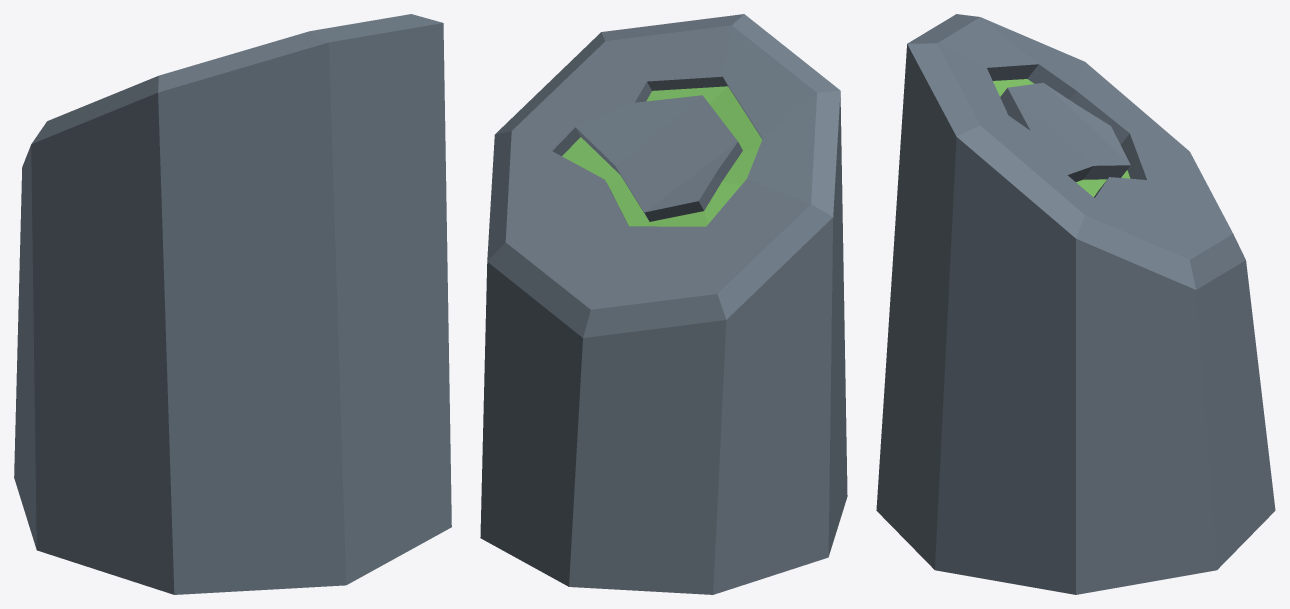
The model's file is RocherSymbole.fbx.
3 renders of one model, left to right at view 1: azimuth 30°, elevation 25°; view 2: azimuth 150°, elevation 25°; view 3: azimuth 270°, elevation 25°, orthographic. The views are drawn at different scales.
Parts seen in each view (by area): view 1: Cylinder.003; view 2: Cylinder.003; view 3: Cylinder.003.
Boxes of the visible parts, <box> form: Cylinder.003: <box>14,14,451,594</box>; Cylinder.003: <box>480,14,847,594</box>; Cylinder.003: <box>876,14,1275,594</box>.
Bounding box in the file's own units: 197 × 247 × 191.
